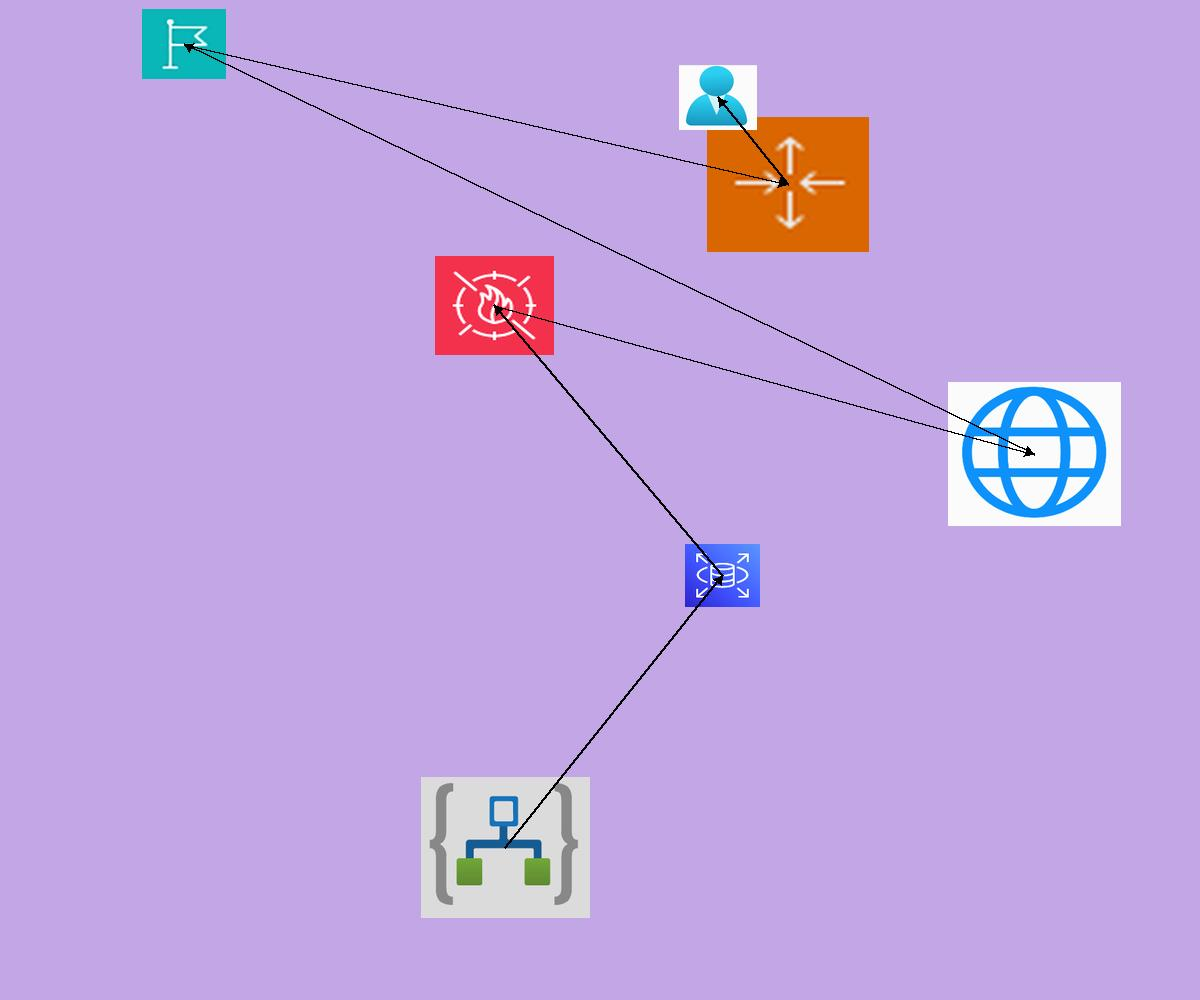AWS-RDS: (685, 544, 760, 607)
AWS-Region: (142, 9, 226, 79)
AWS-Scaling-group: (707, 117, 869, 252)
AWS-WAF: (435, 256, 554, 355)
Azure_http: (948, 382, 1121, 526)
Azure_integration-204-Logic-Apps: (421, 777, 590, 918)
Azure_users: (679, 65, 757, 130)
